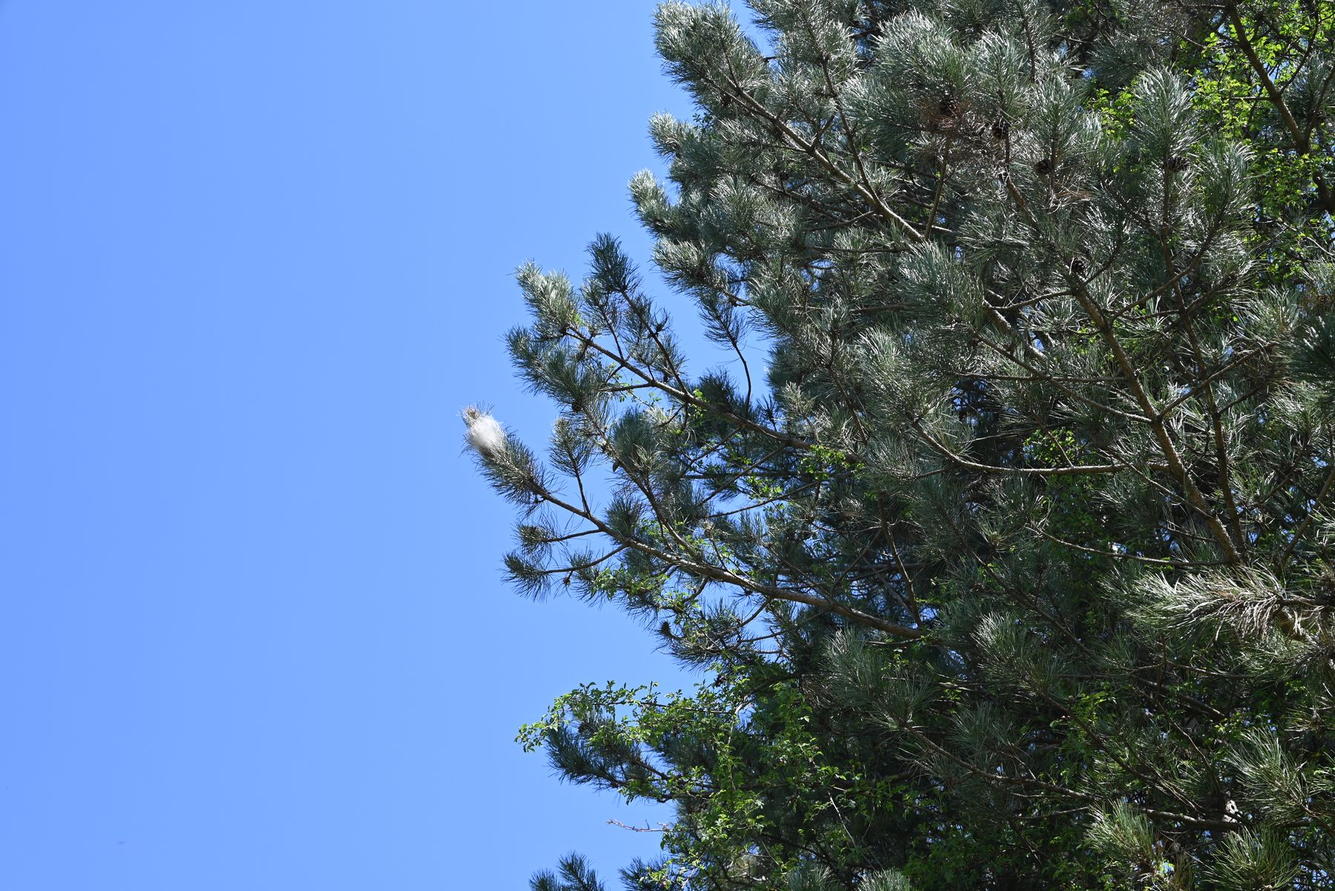thaumatopoea pityocampa jajno gnijezdo: (462, 405, 510, 470)
